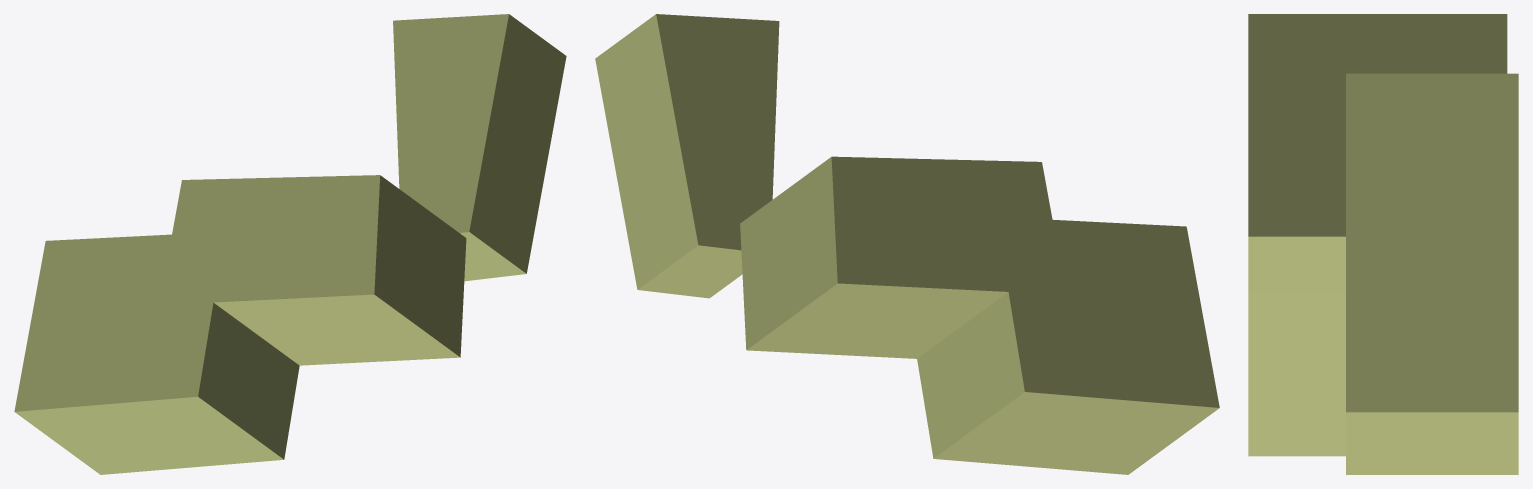
3 views of the same model, side by side, from view 1: azimuth 30°, elevation 25°; view 2: azimuth 150°, elevation 25°; view 3: azimuth 270°, elevation 25° (orthographic). The views are drawn at different scales.
Visible parts, largest first — view 1: 0_0_1_2_0_0_0_2_1; view 2: 0_0_1_2_0_0_0_2_1; view 3: 0_0_1_2_0_0_0_2_1.
Boxes of the visible parts, x1,y1,x2,y2 form: 0_0_1_2_0_0_0_2_1: (14, 14, 566, 474); 0_0_1_2_0_0_0_2_1: (595, 14, 1219, 474); 0_0_1_2_0_0_0_2_1: (1248, 14, 1518, 474).
Size of the model in its own units: 30.05 by 18.71 by 9.4.
